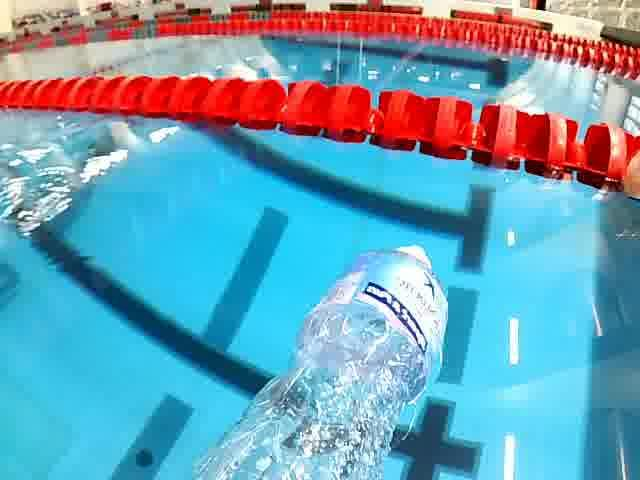Bottle: (183, 235, 456, 480)
